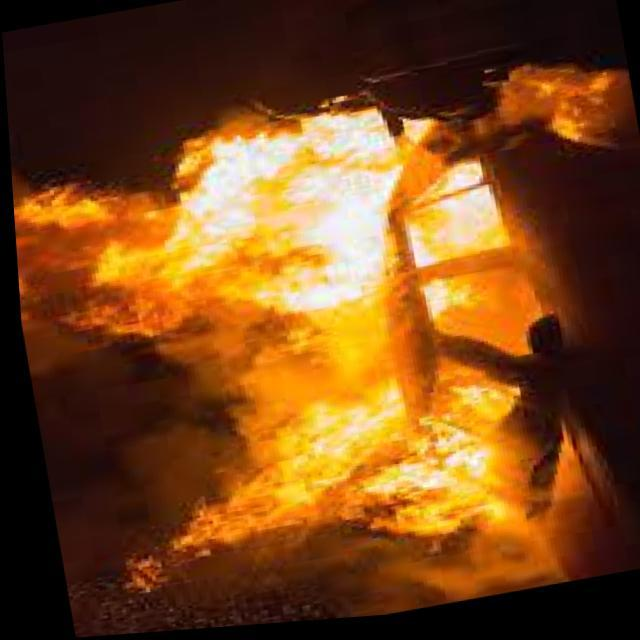fire: (3, 35, 560, 618), (514, 70, 618, 150)
